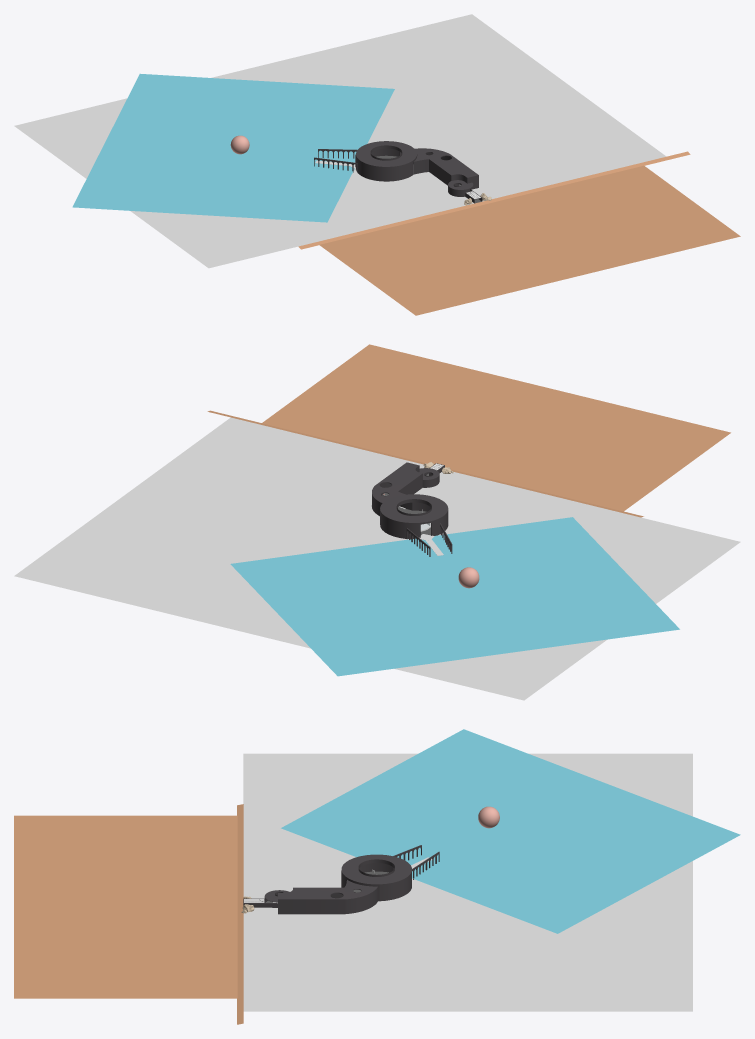
The model's file is portfolio03.glb.
3 views of the same model, one above another, from view 1: azimuth 30°, elevation 25°; view 2: azimuth 150°, elevation 25°; view 3: azimuth 270°, elevation 25° (orthographic). The views are drawn at different scales.
Parts seen in each view (by area): view 1: Plane.004, Plane, Plane.002, circularRoom, floor.001, straightRoom; view 2: Plane.004, Plane, Plane.002, circularRoom, straightRoom, floor.001; view 3: Plane.004, Plane, Plane.002, straightRoom, circularRoom, floor.001.
Part boxes in pixels (x1,y1,x2,y2): Plane.004: (14, 14, 666, 268); Plane: (72, 73, 394, 222); Plane.002: (319, 165, 740, 315); circularRoom: (356, 141, 417, 181); floor.001: (298, 151, 690, 249); straightRoom: (399, 148, 478, 189); Plane.004: (14, 417, 740, 700); Plane: (230, 517, 679, 676); Plane.002: (262, 344, 730, 511); circularRoom: (380, 494, 448, 539); straightRoom: (372, 462, 422, 515); floor.001: (207, 410, 643, 517); Plane.004: (243, 753, 692, 1011); Plane: (281, 729, 740, 933); Plane.002: (14, 815, 237, 998); straightRoom: (278, 880, 377, 914); circularRoom: (341, 854, 411, 901); floor.001: (237, 804, 243, 1024).
Bounding box in the file's own units: 593 × 26.3 × 622.
